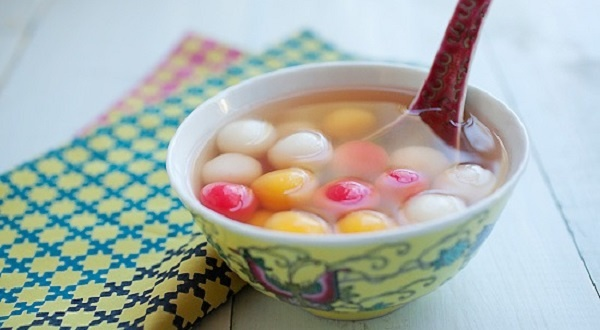ronde: (199, 97, 502, 234)
